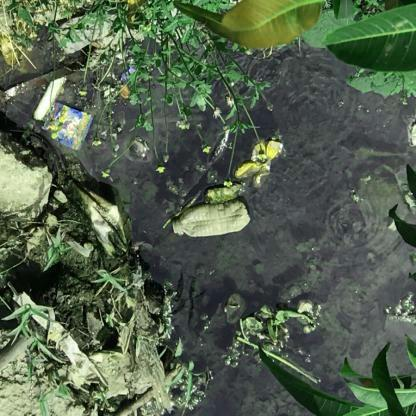Plastic: (170, 200, 250, 239)
Trash: (43, 100, 93, 151)
